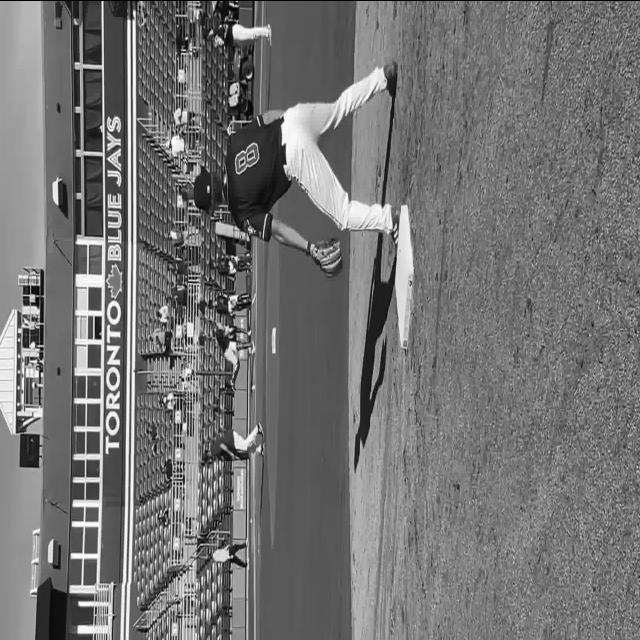base: (395, 204, 414, 349)
baseball_glove: (311, 235, 342, 278)
shoe: (384, 60, 398, 95), (390, 204, 401, 244)
